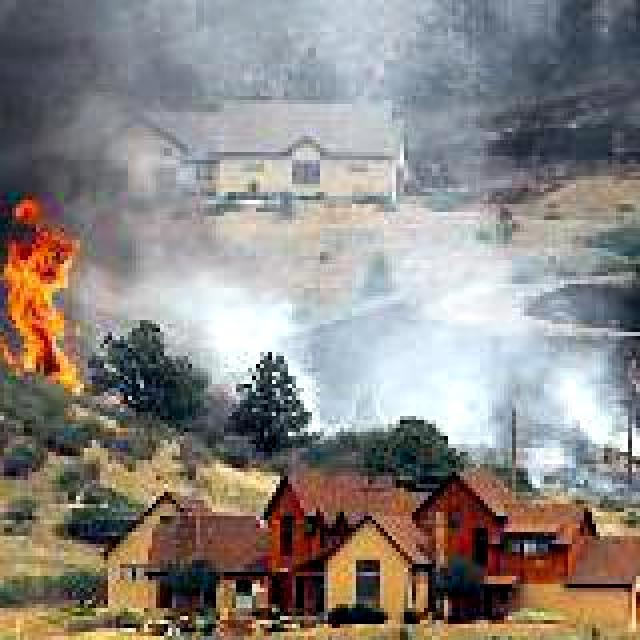smoke: (4, 0, 220, 216), (352, 236, 500, 416), (180, 252, 296, 380), (536, 344, 640, 468)
